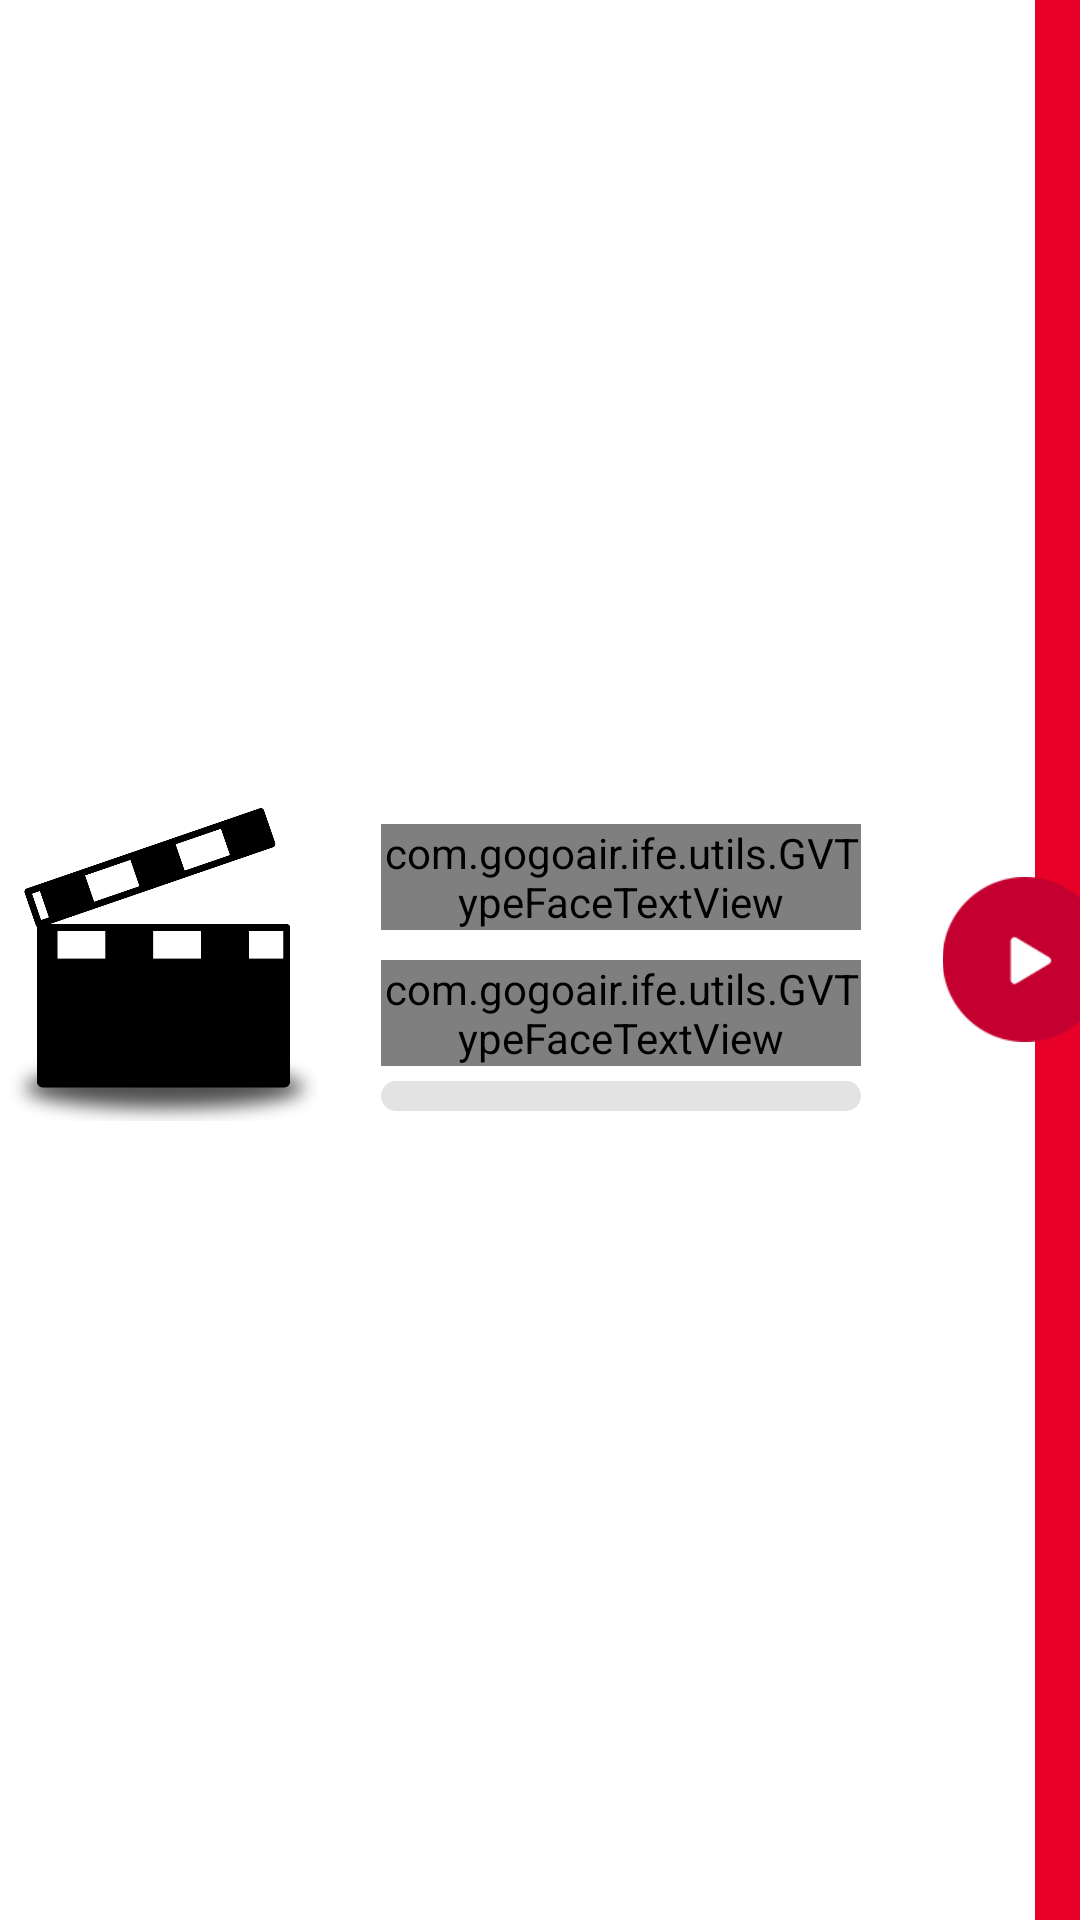

Where icons sit on this 1080 x 1920 app screen, as [x1, y1, x2, y2]:
play: [943, 877, 1080, 1042]
